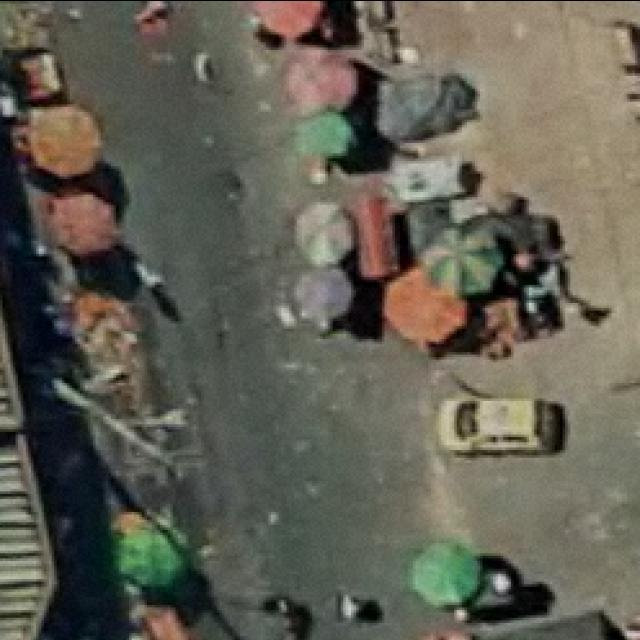vendedor_ambulante: (378, 263, 474, 347), (418, 216, 508, 298), (27, 95, 106, 179), (45, 182, 129, 257), (408, 534, 487, 610), (116, 520, 194, 588), (282, 45, 362, 111), (294, 197, 362, 267), (287, 265, 358, 320), (245, 1, 341, 38), (298, 110, 358, 160)
